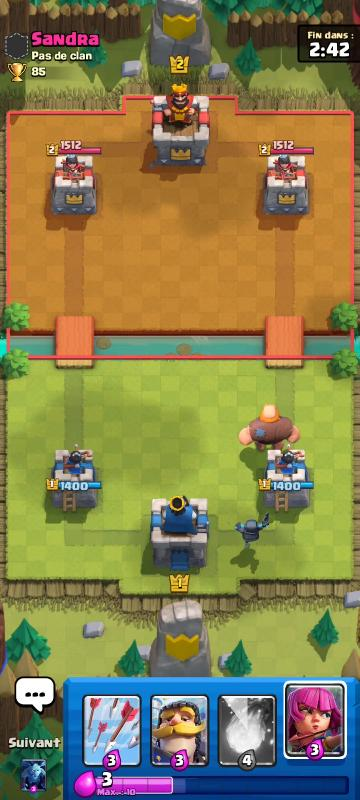geant: (235, 398, 309, 461)
mini_PEKKA: (235, 512, 268, 549)
